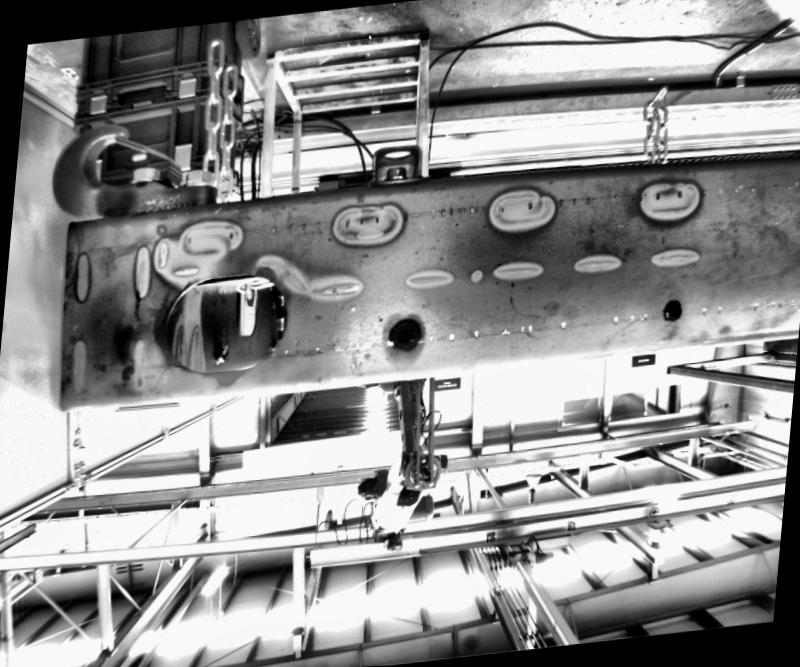bolt: (381, 164, 409, 184)
bracket: (345, 133, 441, 191)
hole: (148, 268, 297, 383), (394, 328, 414, 348), (667, 304, 681, 320)
